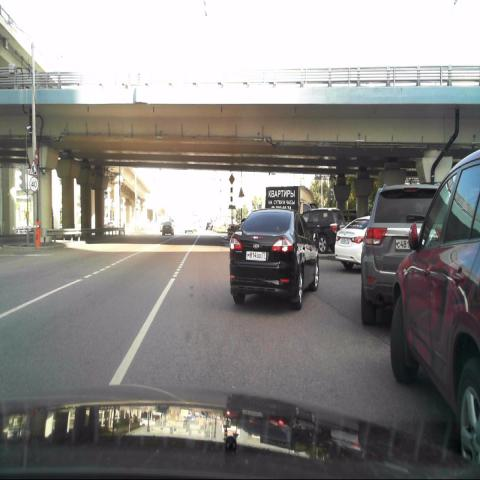1_25: (28, 159, 39, 176)
3_24: (29, 175, 38, 191)
